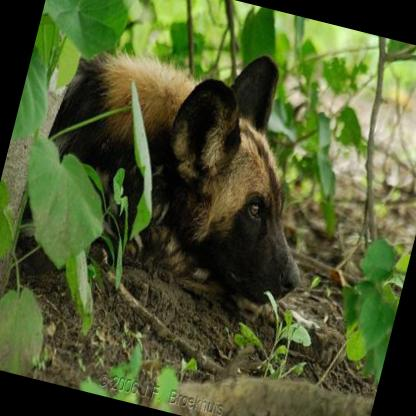African_hunting_dog: (3, 2, 352, 326)
